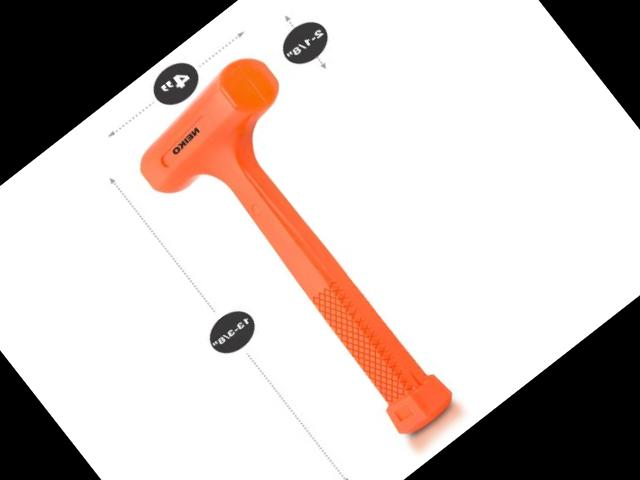hammer: (119, 38, 511, 470)
